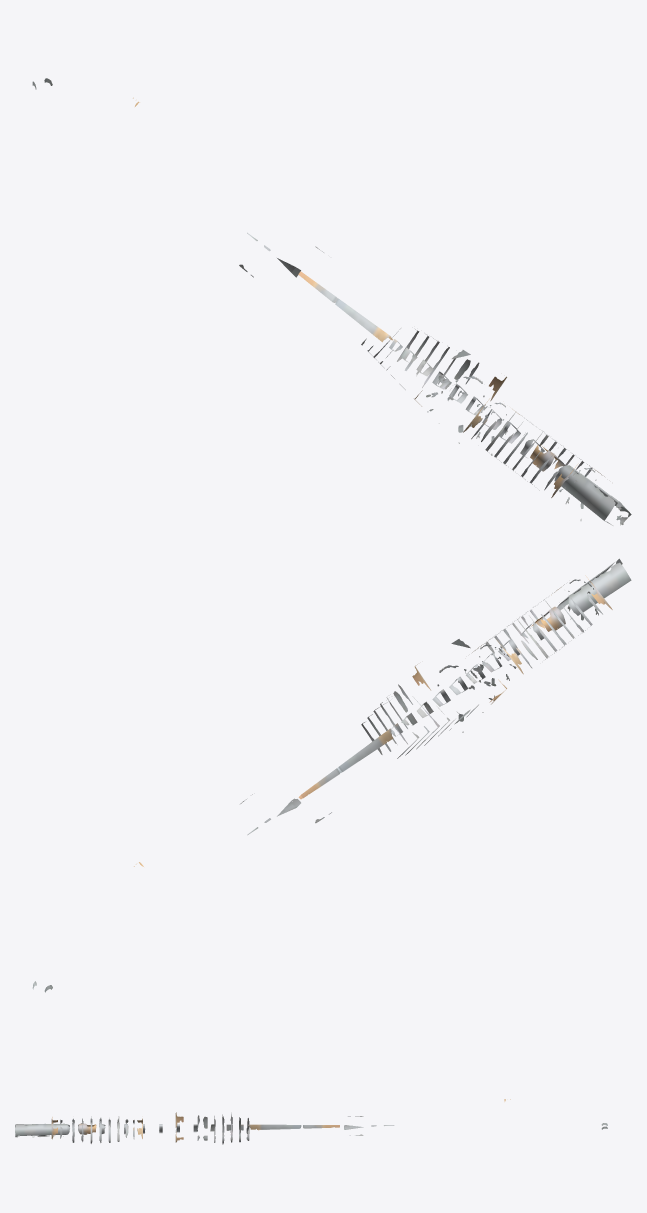
File: wp_rifle_lightning_cannon_l2.fbx
3 views of the same model, one above another, from view 1: azimuth 30°, elevation 25°; view 2: azimuth 150°, elevation 25°; view 3: azimuth 270°, elevation 25° (orthographic). The views are drawn at different scales.
Visible parts, largest first — view 1: mesh_node; view 2: mesh_node; view 3: mesh_node.
Boxes of the visible parts, x1=… form: mesh_node: x1=32, y1=78, x2=631, y2=525; mesh_node: x1=32, y1=558, x2=631, y2=992; mesh_node: x1=15, y1=1099, x2=607, y2=1144.
Size of the model in its own units: 0.0884 by 0.1692 by 0.914.
Materials: 1 (1 with a texture image).
